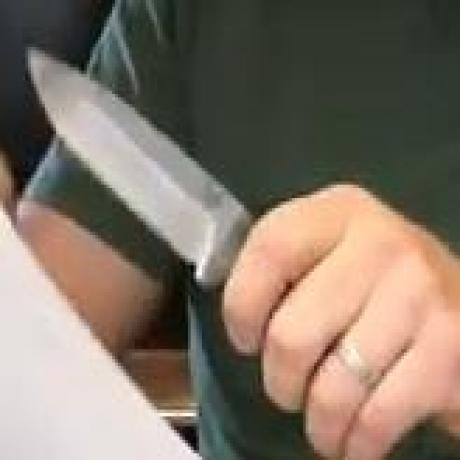1: (216, 178, 460, 460)
weapon: (24, 42, 244, 284)
